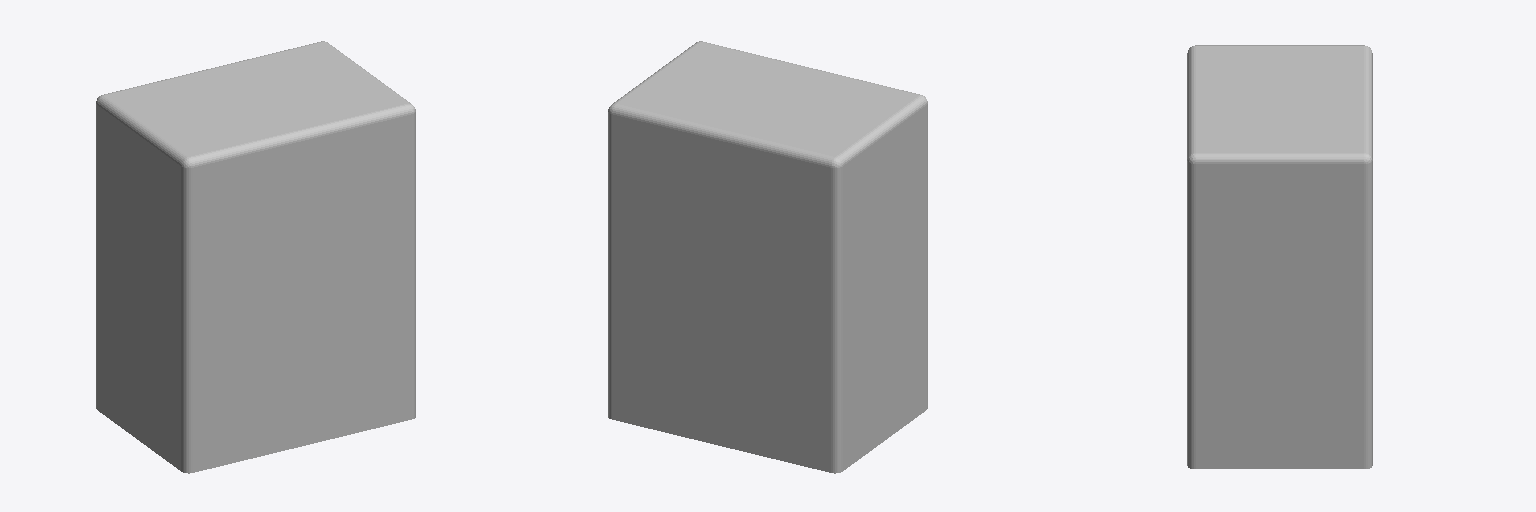
The model's file is dock2_freecad.obj.
3 renders of one model, left to right at view 1: azimuth 30°, elevation 25°; view 2: azimuth 150°, elevation 25°; view 3: azimuth 270°, elevation 25°, orthographic.
Parts seen in each view (by area): view 1: Thickness; view 2: Thickness; view 3: Thickness.
Part boxes in pixels (x1,y1,x2,y2): Thickness: (96, 41, 415, 473); Thickness: (608, 41, 927, 473); Thickness: (1187, 45, 1372, 468).
Size of the model in its own units: 6.4 by 8.2 by 4.4.